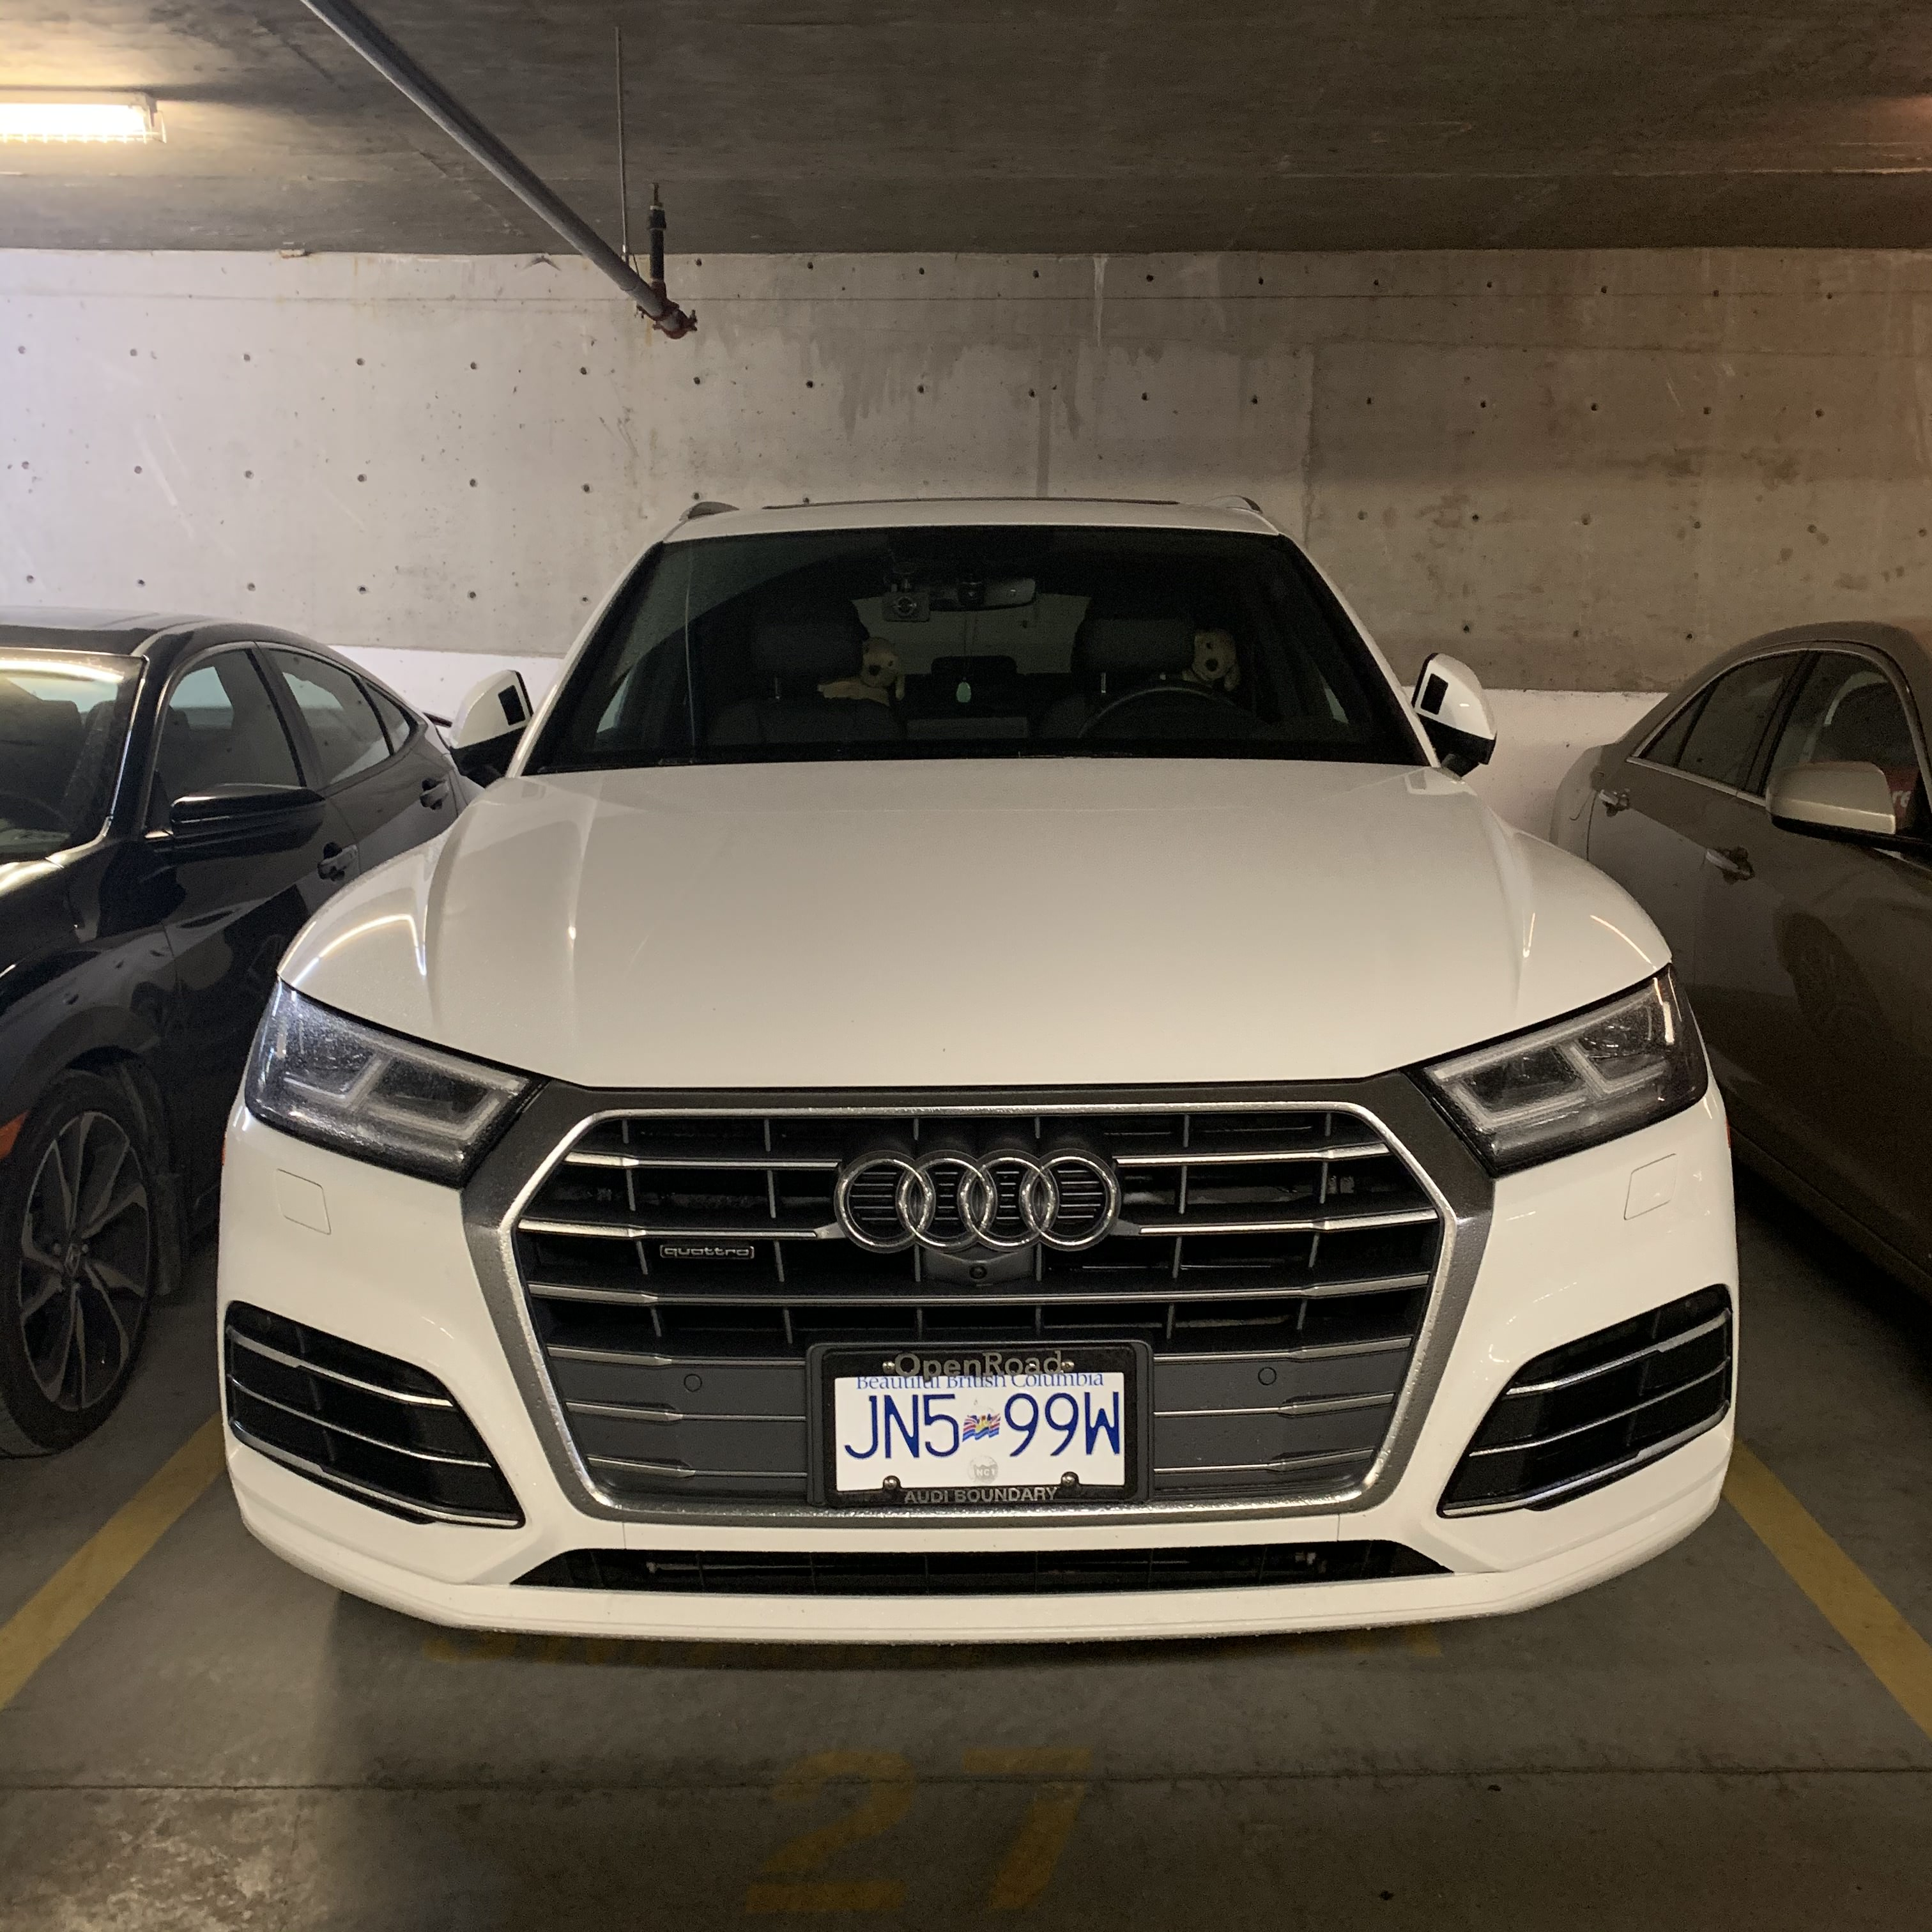licence plate: (1345, 785, 1494, 1114)
